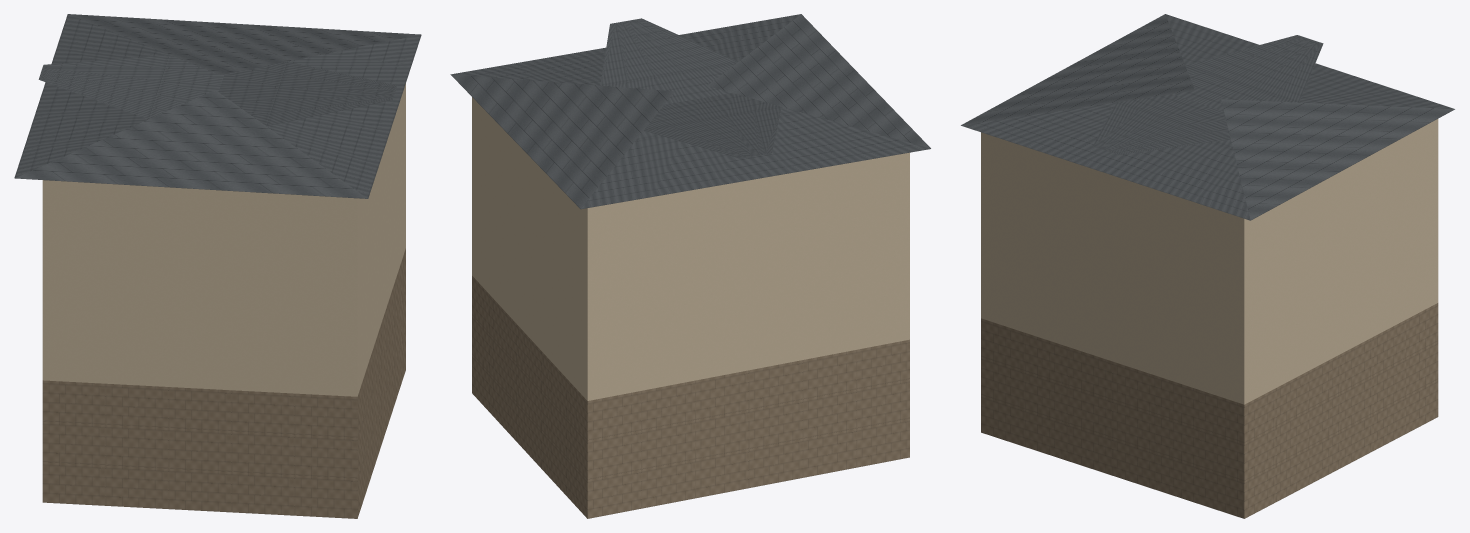
The model's file is bld_c13_35_415.gltf.
3 renders of one model, left to right at view 1: azimuth 30°, elevation 25°; view 2: azimuth 150°, elevation 25°; view 3: azimuth 270°, elevation 25°, orthographic. The views are drawn at different scales.
Parts seen in each view (by area): view 1: bld_c13_35_415; view 2: bld_c13_35_415; view 3: bld_c13_35_415.
Boxes of the visible parts, box(x1,y1,x2,y2) form: bld_c13_35_415: box(14, 14, 421, 518); bld_c13_35_415: box(450, 14, 930, 518); bld_c13_35_415: box(961, 14, 1454, 518).
Size of the model in its own units: 19.79 by 14.7 by 20.03.
Materials: 3 (3 with a texture image).
